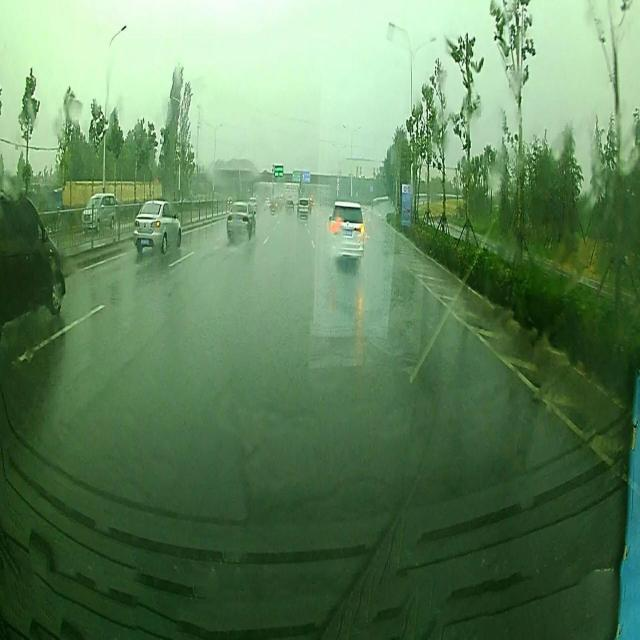car: (0, 165, 66, 325), (130, 188, 188, 264), (326, 191, 369, 280), (78, 176, 124, 242), (222, 198, 258, 242), (296, 197, 310, 221), (268, 190, 276, 214)
